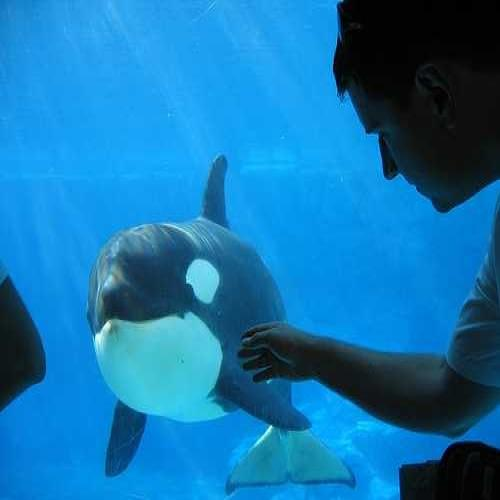killer_whale-endangered: (73, 140, 319, 440)
